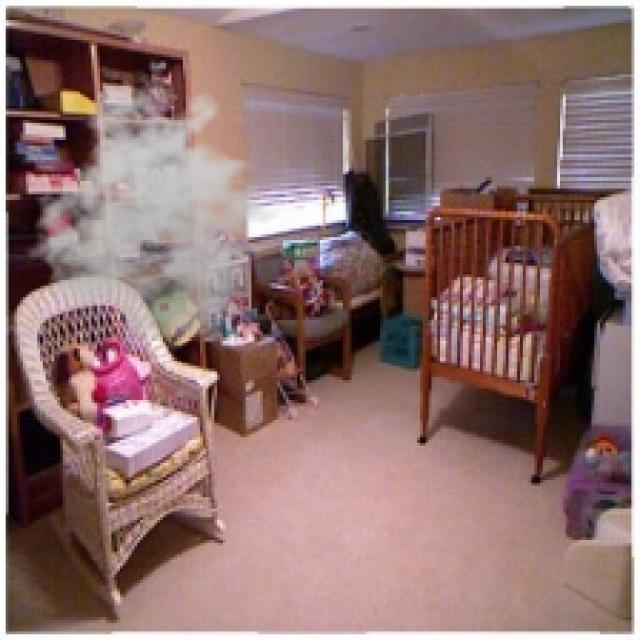Smoke: (26, 83, 294, 343)
